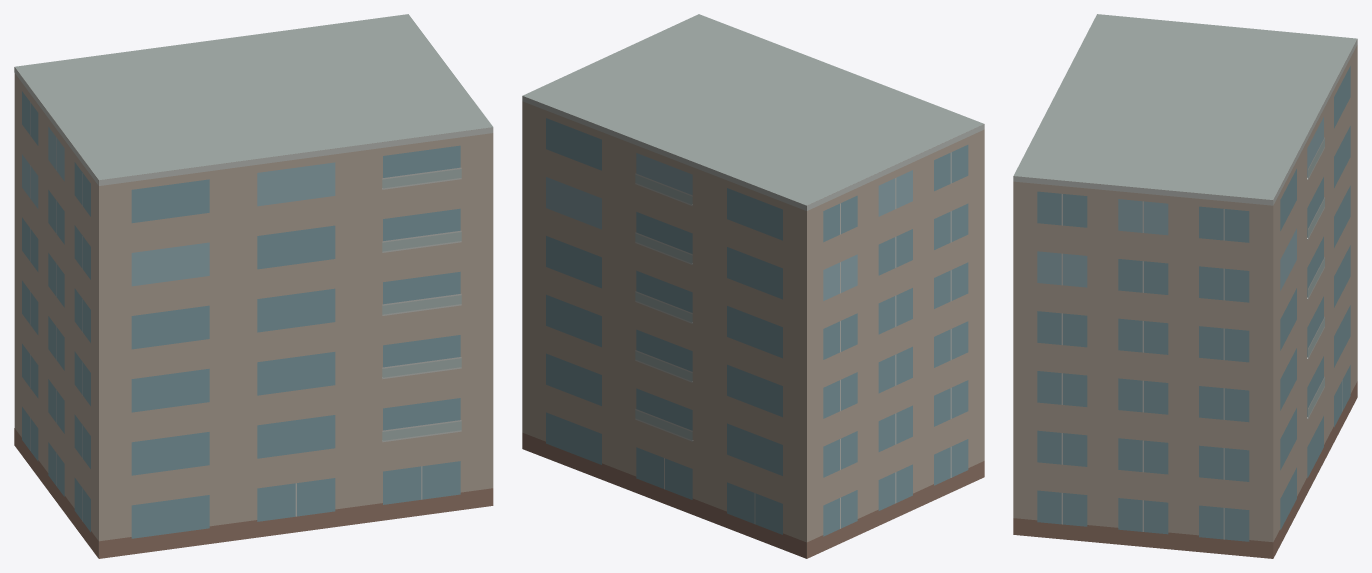
The model's file is survey-upis-32886817.glb.
3 renders of one model, left to right at view 1: azimuth 30°, elevation 25°; view 2: azimuth 150°, elevation 25°; view 3: azimuth 270°, elevation 25°, orthographic. The views are drawn at different scales.
Visible parts, largest first — view 1: survey-upis-32886817.tmp; view 2: survey-upis-32886817.tmp; view 3: survey-upis-32886817.tmp.
Part boxes in pixels (x1=…): survey-upis-32886817.tmp: x1=14, y1=14, x2=493, y2=558; survey-upis-32886817.tmp: x1=522, y1=14, x2=984, y2=558; survey-upis-32886817.tmp: x1=1013, y1=14, x2=1357, y2=558.
Size of the model in its own units: 17.48 by 15.7 by 13.66.
